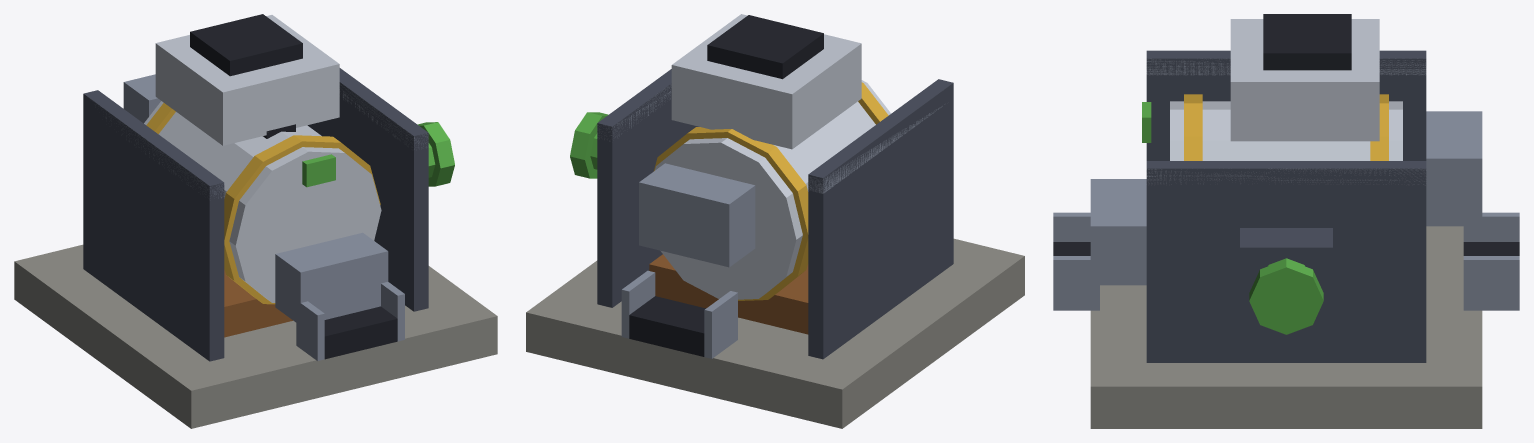
The model's file is cleaner-right.glb.
3 views of the same model, side by side, from view 1: azimuth 30°, elevation 25°; view 2: azimuth 150°, elevation 25°; view 3: azimuth 270°, elevation 25° (orthographic). The views are drawn at different scales.
Visible parts, largest first — view 1: cleaner-right, spin-y; view 2: cleaner-right, spin-y; view 3: cleaner-right, spin-y.
Boxes of the visible parts, x1=… form: cleaner-right: x1=14, y1=14, x2=497, y2=428; spin-y: x1=144, y1=101, x2=381, y2=304; cleaner-right: x1=526, y1=14, x2=1024, y2=428; spin-y: x1=653, y1=80, x2=890, y2=300; cleaner-right: x1=1053, y1=14, x2=1519, y2=428; spin-y: x1=1170, y1=94, x2=1402, y2=160.
Size of the model in its own units: 0.92 by 0.74 by 1.
Materials: 2 (2 with a texture image).
